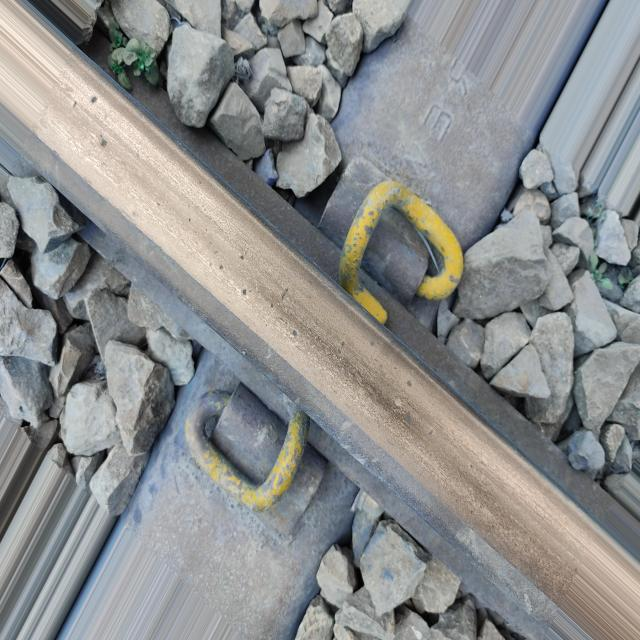squats_high: (71, 95, 108, 149), (269, 286, 300, 340), (218, 253, 249, 299)
